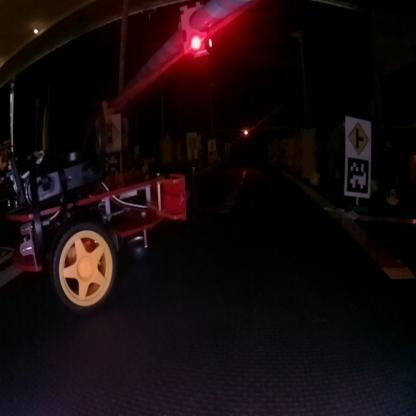duckiebot: (0, 98, 210, 312)
